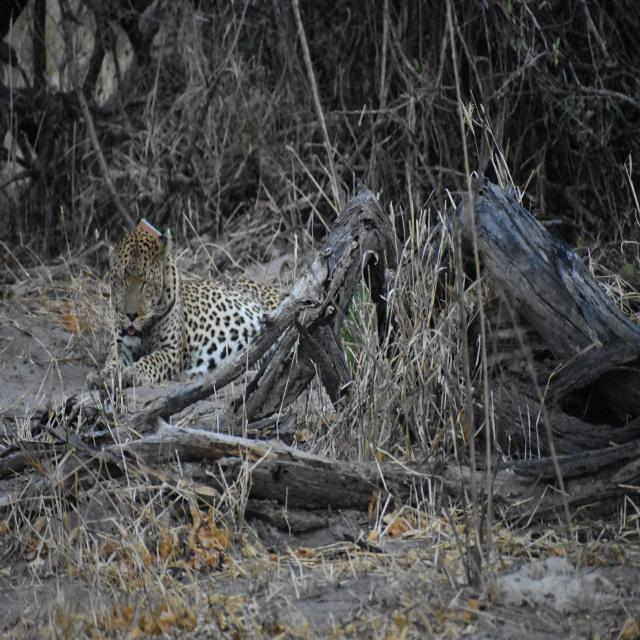Leopard: (91, 221, 291, 398)
